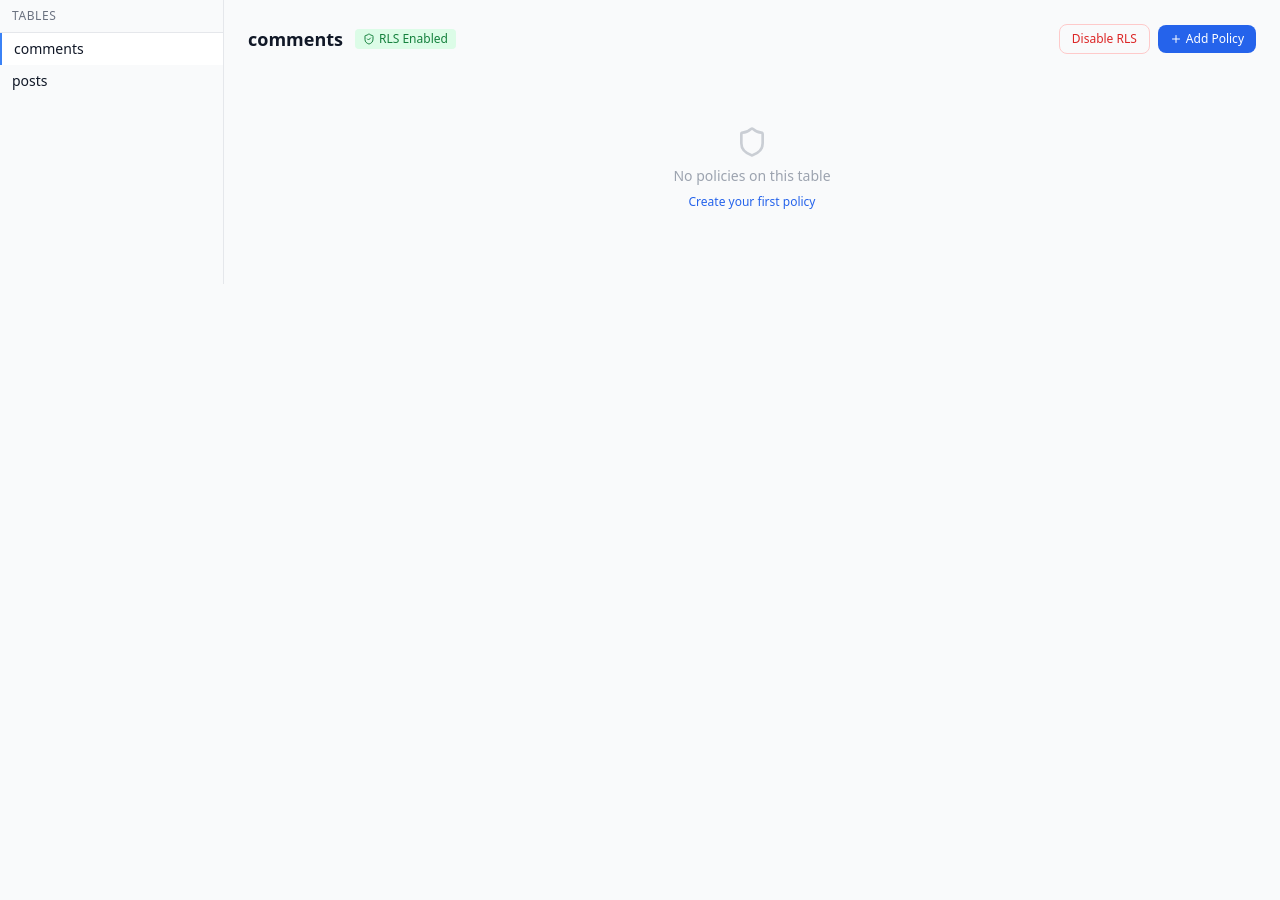
RlsPolicies › opens create policy modal on Add Policy click
Expected: the text "No policies on this table" is shown, [674,166,831,185]
Click the button "Add Policy": (1207, 39) [1158,25,1256,53]
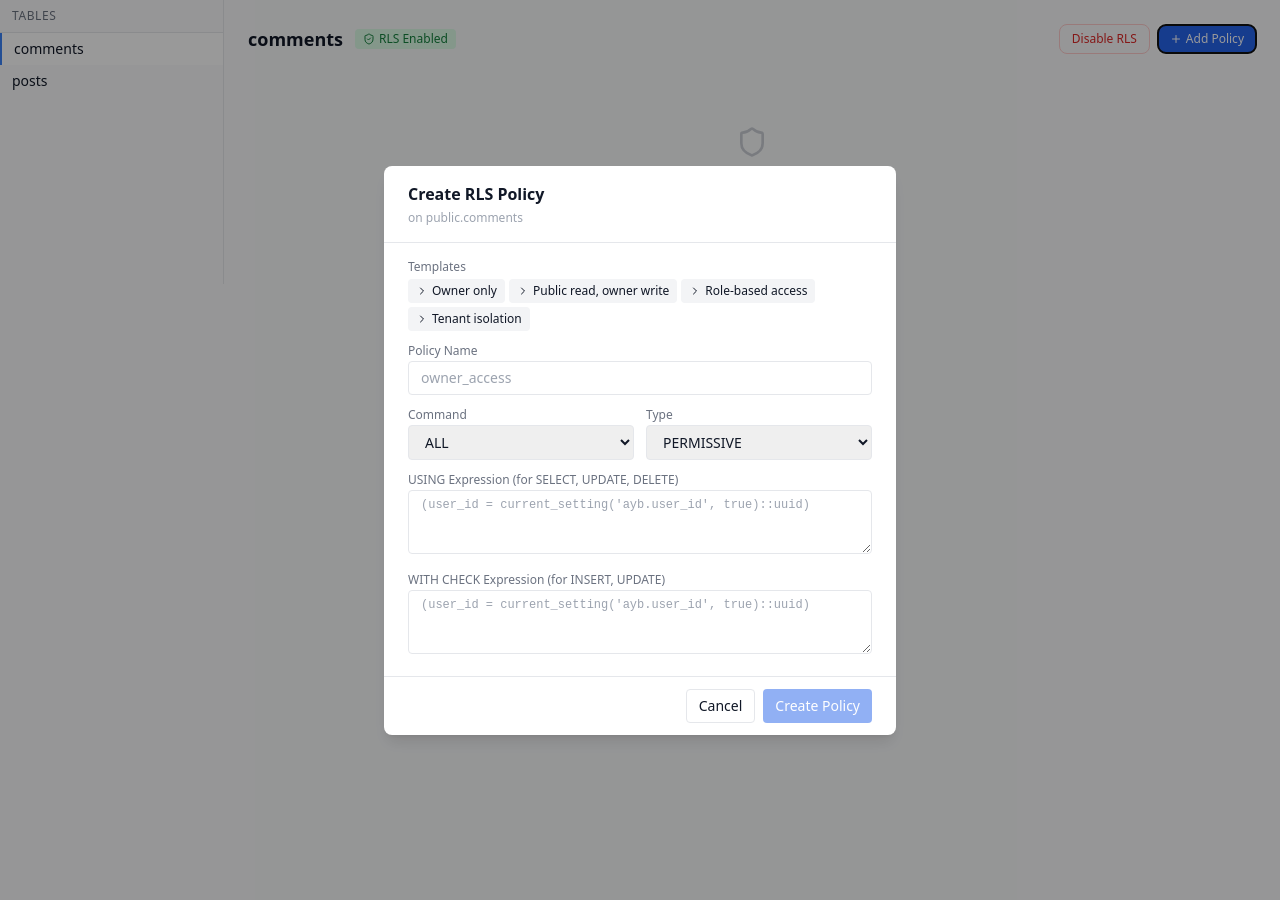
Expected: the heading "Create RLS Policy" is shown, [408,182,544,204]
Expected: the field named "Policy name" is shown, [408,360,872,394]
Expected: the dropdown named "Command" is shown, [408,424,634,460]
